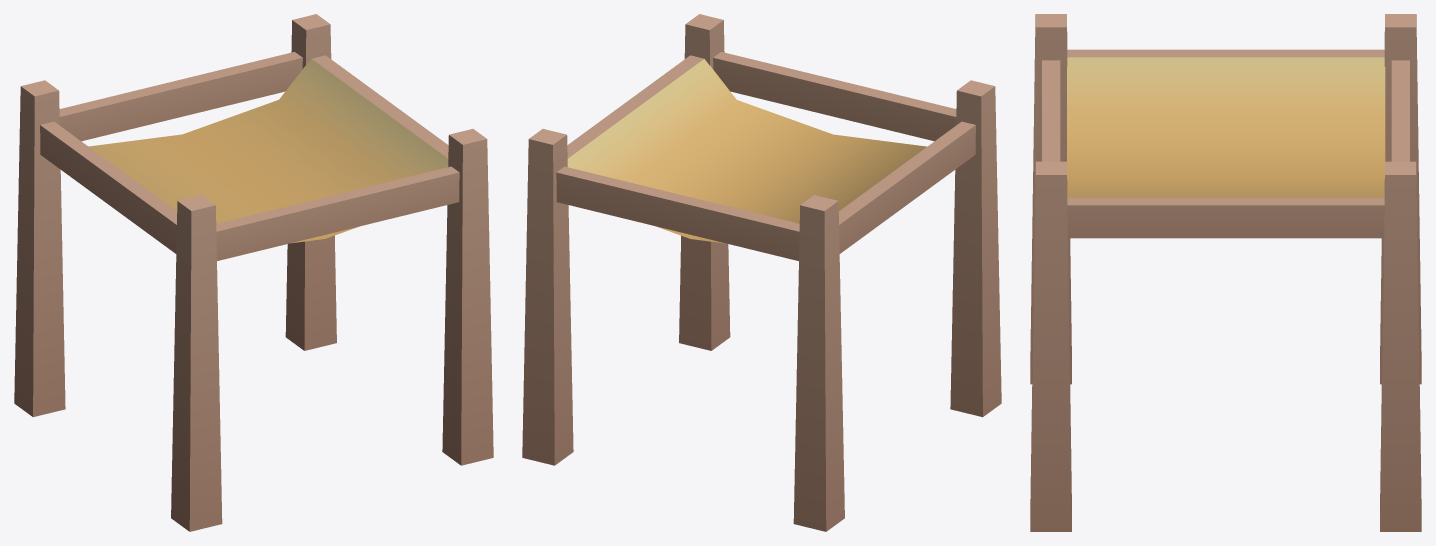
Rendered from structure-canvas.glb.
3 views of the same model, side by side, from view 1: azimuth 30°, elevation 25°; view 2: azimuth 150°, elevation 25°; view 3: azimuth 270°, elevation 25° (orthographic). The views are drawn at different scales.
Visible parts, largest first — view 1: structure-canvas; view 2: structure-canvas; view 3: structure-canvas.
Part boxes in pixels (box(x1,y1,x2,y2)): structure-canvas: box(14, 14, 493, 531); structure-canvas: box(522, 14, 1001, 531); structure-canvas: box(1030, 14, 1421, 531).
Bounding box in the file's own units: 0.5 × 0.5 × 0.5.
